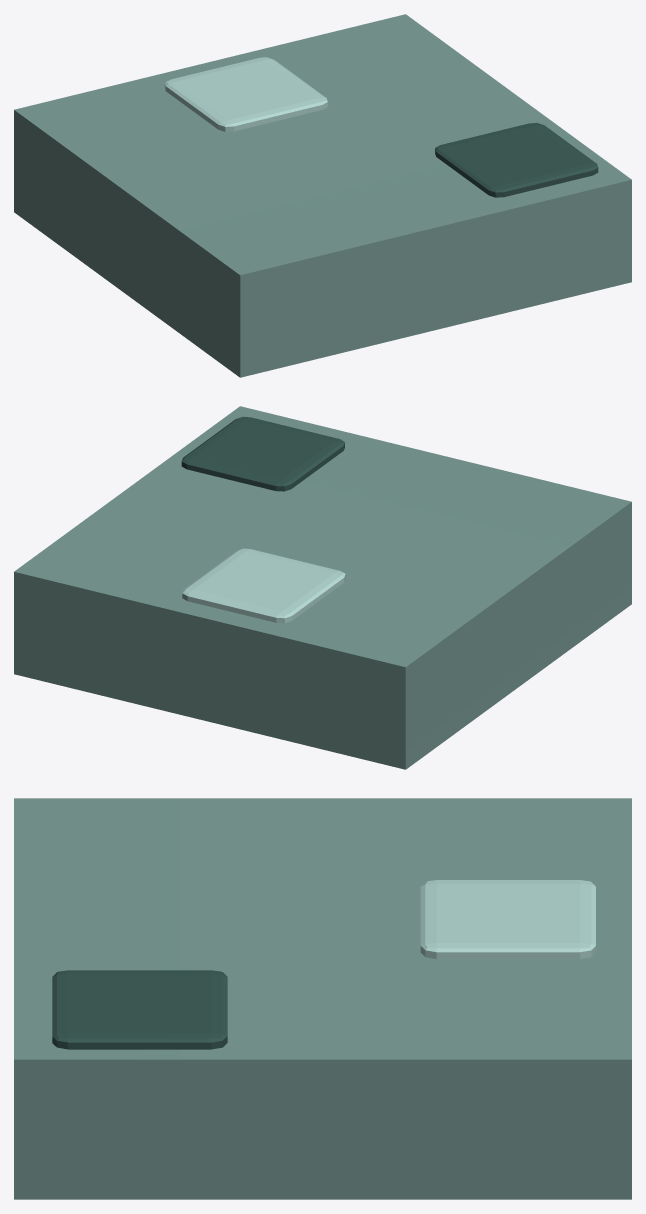
File: floor-t2.fbx
The picture shows the model from 3 angles, top to bottom: view 1: azimuth 30°, elevation 25°; view 2: azimuth 150°, elevation 25°; view 3: azimuth 270°, elevation 25°; orthographic projection. The views are drawn at different scales.
Parts seen in each view (by area): view 1: floor_t2; view 2: floor_t2; view 3: floor_t2.
Boxes of the visible parts, x1,y1,x2,y2 form: floor_t2: [14, 14, 631, 377]; floor_t2: [14, 406, 631, 769]; floor_t2: [14, 798, 631, 1199].
Bounding box in the file's own units: 400 × 107 × 400.
